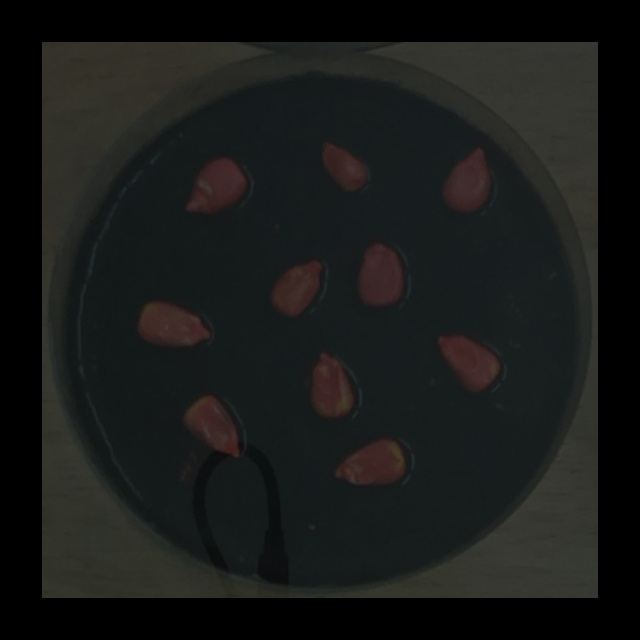Zea mays: (174, 386, 248, 465), (429, 326, 508, 400), (326, 431, 416, 493), (178, 150, 253, 223), (129, 295, 218, 354), (435, 139, 496, 220), (264, 253, 330, 325), (302, 345, 361, 425), (353, 237, 408, 315), (313, 135, 372, 198)
